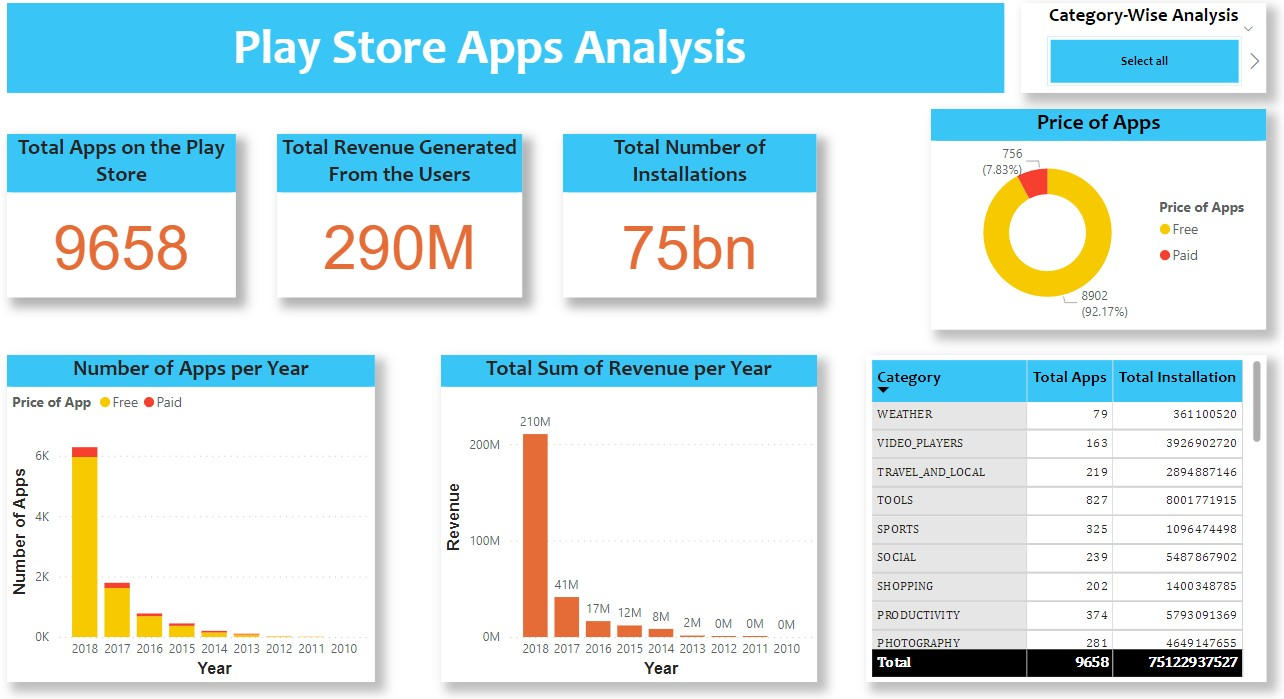

Layout of this report page (visuals, bound fields, positions):
{"tool":"powerbi","page":{"name":"Summary","canvas":[1280,720],"ordinal":0},"visuals":[{"type":"card","title":"Total Apps on the Play Store","fields":{"Values":["Google_data_cleaned.Total Apps"]},"box":[16,136,224,160],"z":0},{"type":"card","title":"Total Number of Installations","fields":{"Values":["Google_data_cleaned.Total Installation"]},"box":[560,136,248,160],"z":1000},{"type":"donutChart","title":"Price of Apps","fields":{"Category":["Google_data_cleaned.App_Price"],"Y":["CountNonNull(Google_data_cleaned.App_Price)"]},"box":[920,112,328,216],"z":2000},{"type":"card","title":"Total Revenue Generated From the Users","fields":{"Values":["Google_data_cleaned.Total revenue"]},"box":[280,136,240,160],"z":3000},{"type":"columnChart","title":"Total Sum of Revenue per Year","fields":{"Y":["Sum(Google_data_cleaned.Revenue)"],"Category":["Google_data_cleaned.update_year"]},"box":[440,352,368,320],"z":4000},{"type":"columnChart","title":"Number of Apps per Year","fields":{"Category":["Google_data_cleaned.update_year"],"Y":["Google_data_cleaned.Total Apps"],"Series":["Google_data_cleaned.App_Price"]},"box":[16,352,360,320],"z":5000},{"type":"tableEx","fields":{"Values":["Google_data_cleaned.category","Google_data_cleaned.Total Apps","Google_data_cleaned.Total Installation"]},"box":[856,352,392,320],"z":6000},{"type":"shape","box":[16,8,976,88],"z":7000},{"type":"slicer","title":"Category-Wise Analysis","fields":{"Values":["Google_data_cleaned.category"]},"box":[1008,8,240,88],"z":8000},{"type":"textbox","box":[232,16,528,72],"z":9000}]}

Visuals, with their boxes on the page's 1280x720 design canvas (x1, y1, x2, y2). These are canvas units, not pixel positions in the 1284x699 screenshot, which may show the page scaled, cropped or inside an application window:
"Total Apps on the Play Store" card: (16, 136, 240, 296)
"Total Number of Installations" card: (560, 136, 808, 296)
"Price of Apps" donutChart: (920, 112, 1248, 328)
"Total Revenue Generated From the Users" card: (280, 136, 520, 296)
"Total Sum of Revenue per Year" columnChart: (440, 352, 808, 672)
"Number of Apps per Year" columnChart: (16, 352, 376, 672)
tableEx - Google_data_cleaned.category x Google_data_cleaned.Total Apps: (856, 352, 1248, 672)
shape: (16, 8, 992, 96)
"Category-Wise Analysis" slicer: (1008, 8, 1248, 96)
textbox: (232, 16, 760, 88)
